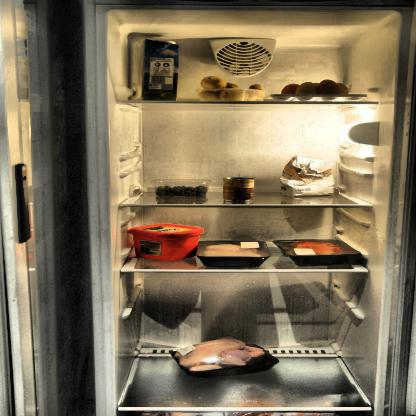beef: (284, 239, 352, 266)
blueberries: (154, 183, 210, 198)
butter: (128, 221, 202, 261)
chicken: (169, 336, 272, 378), (199, 241, 267, 267)
corn: (221, 176, 258, 204)
eggs: (278, 78, 355, 103)
milk: (144, 37, 180, 105)
potato: (198, 74, 267, 104)
